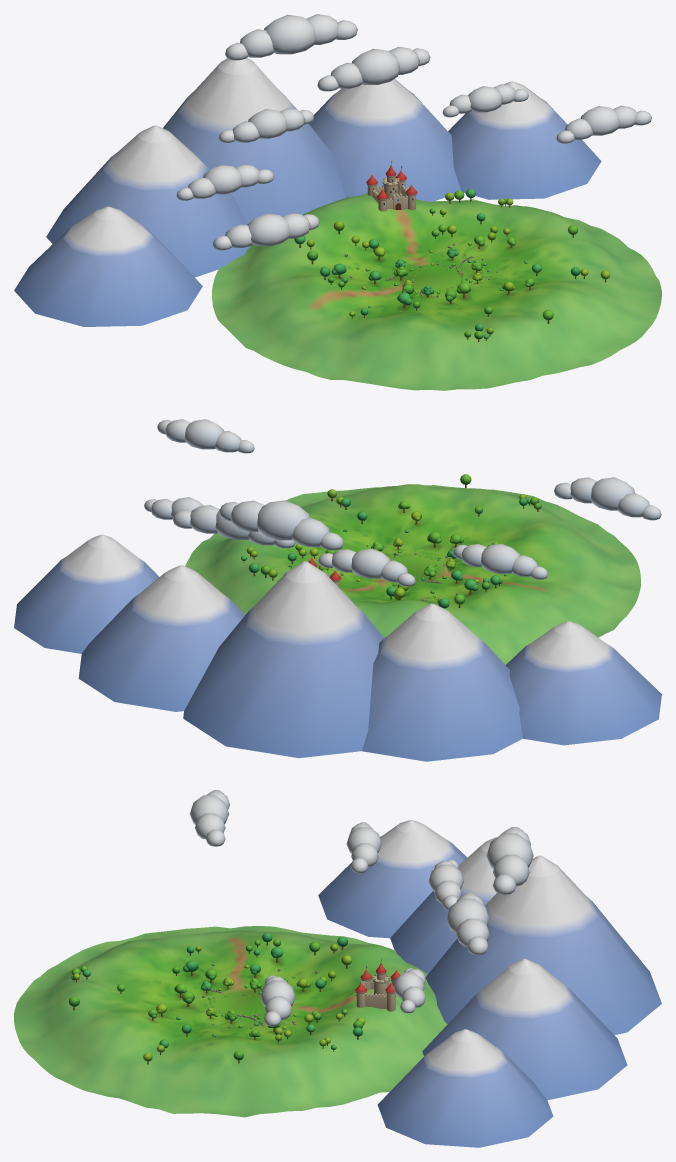
The model's file is arena_meadow.glb.
The picture shows the model from 3 angles, top to bottom: view 1: azimuth 30°, elevation 25°; view 2: azimuth 150°, elevation 25°; view 3: azimuth 270°, elevation 25°; orthographic projection. The views are drawn at different scales.
Parts seen in each view (by area): view 1: Meadow_Trees; view 2: Meadow_Trees; view 3: Meadow_Trees.
Part boxes in pixels (bbox=[...]): Meadow_Trees: bbox=[14, 14, 661, 390]; Meadow_Trees: bbox=[14, 419, 661, 761]; Meadow_Trees: bbox=[14, 790, 661, 1147].
Bounding box in the file's own units: 273 × 81.32 × 262.
